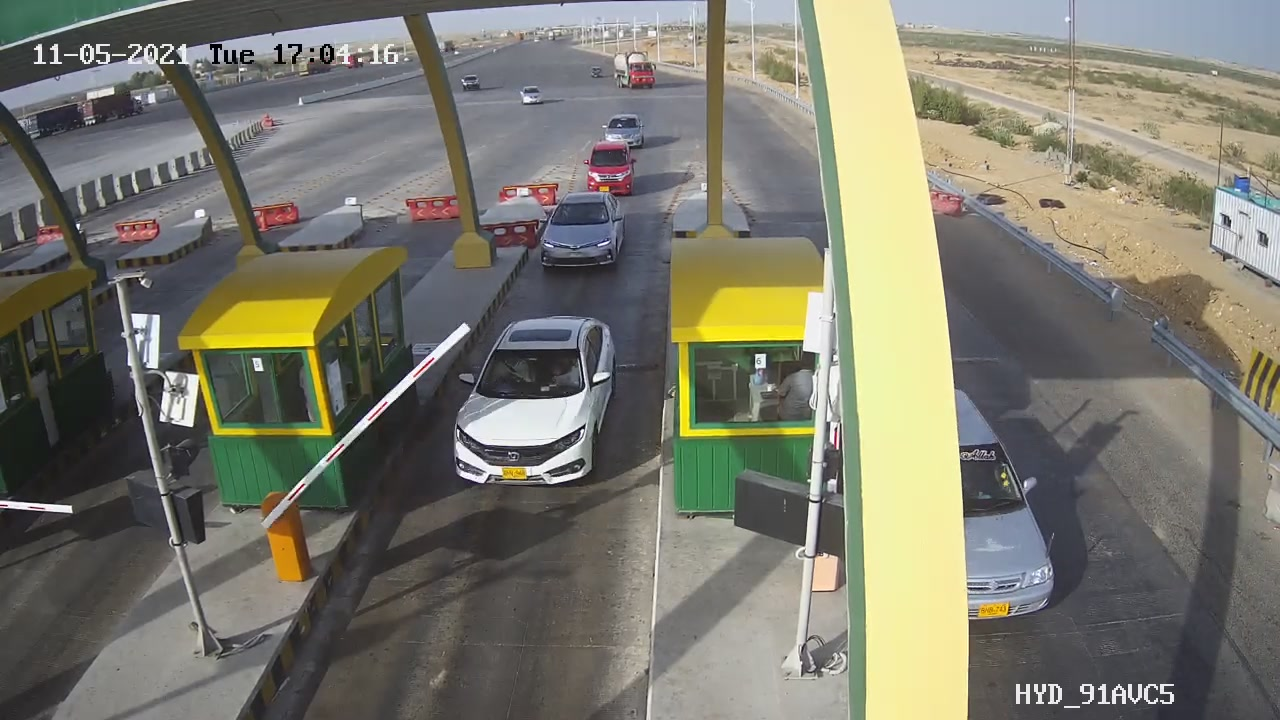F1: (438, 305, 627, 505), (524, 177, 640, 285)
